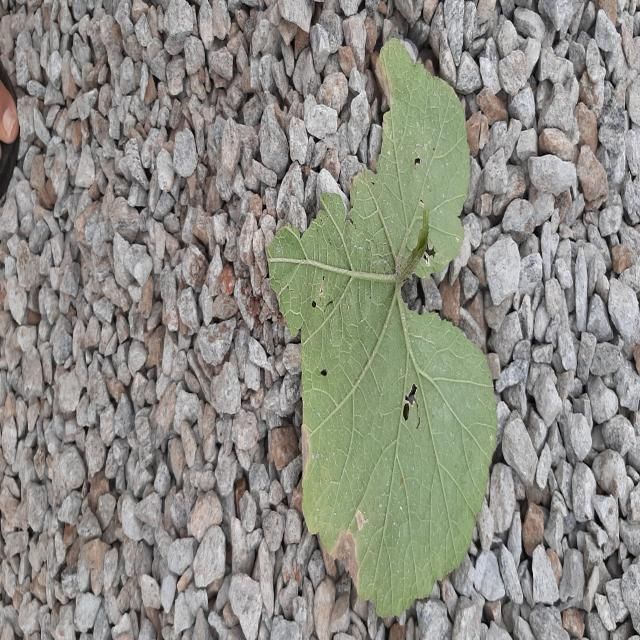pumpkin: (269, 43, 496, 615)
